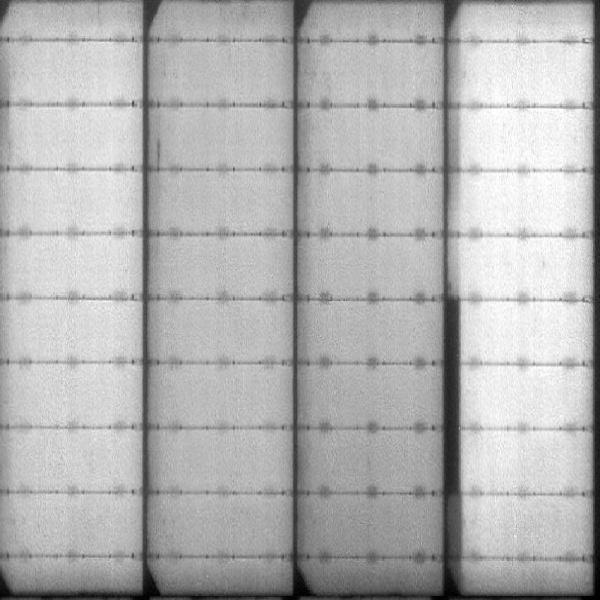black_border: (446, 294, 465, 563)
scratch: (154, 138, 162, 172)
